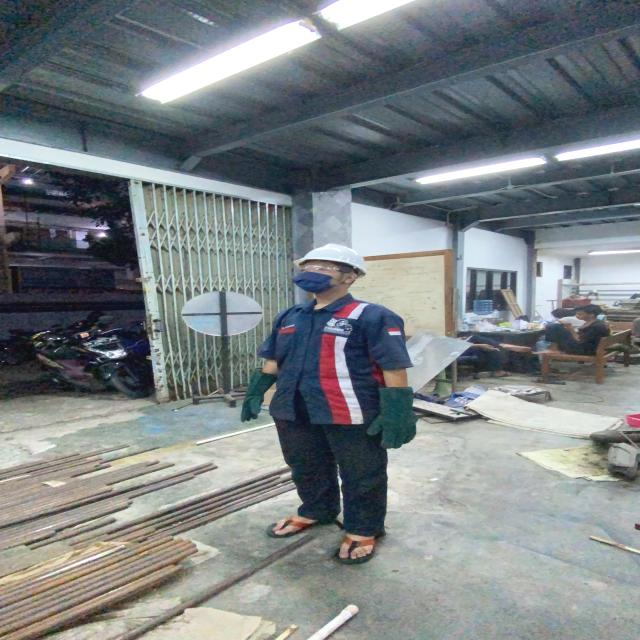face_mask: (290, 263, 340, 291)
face_nomask: (572, 310, 588, 322)
glasses: (293, 264, 350, 275)
hand_glove: (361, 385, 424, 449), (231, 373, 276, 422)
head_helmet: (292, 242, 370, 269)
head_nohelmet: (572, 303, 603, 312)
person: (244, 242, 414, 568), (535, 304, 611, 358)
